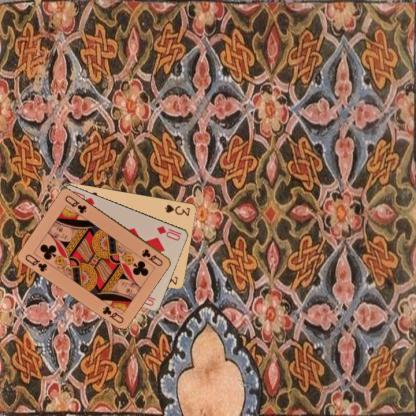10d: (154, 223, 182, 242)
3s: (162, 202, 192, 218)
Qc: (22, 252, 48, 274), (139, 246, 164, 268)
